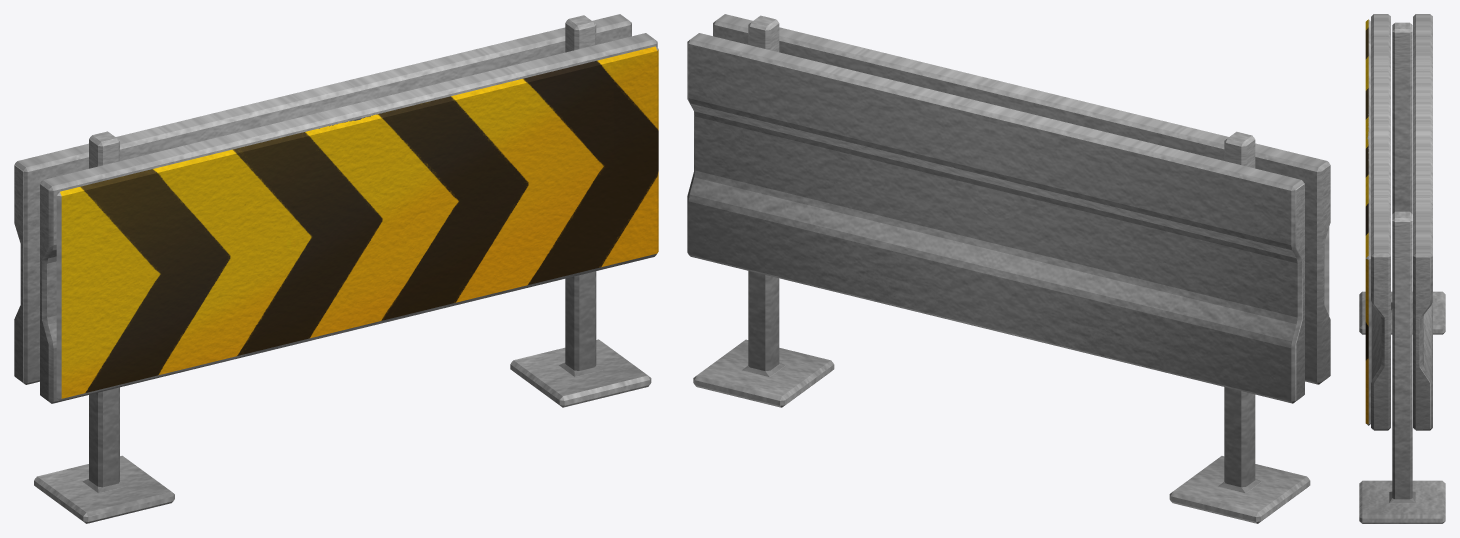
The model's file is Barrier_Long_Right.fbx.
3 renders of one model, left to right at view 1: azimuth 30°, elevation 25°; view 2: azimuth 150°, elevation 25°; view 3: azimuth 270°, elevation 25°, orthographic. The views are drawn at different scales.
Parts seen in each view (by area): view 1: Barrier_Long_Right; view 2: Barrier_Long_Right; view 3: Barrier_Long_Right.
Boxes of the visible parts, x1,y1,x2,y2 form: Barrier_Long_Right: (14, 14, 658, 523); Barrier_Long_Right: (687, 14, 1330, 523); Barrier_Long_Right: (1359, 14, 1445, 523).
Bounding box in the file's own units: 81.89 × 46.1 × 12.31.
Materials: 2 (2 with a texture image).
